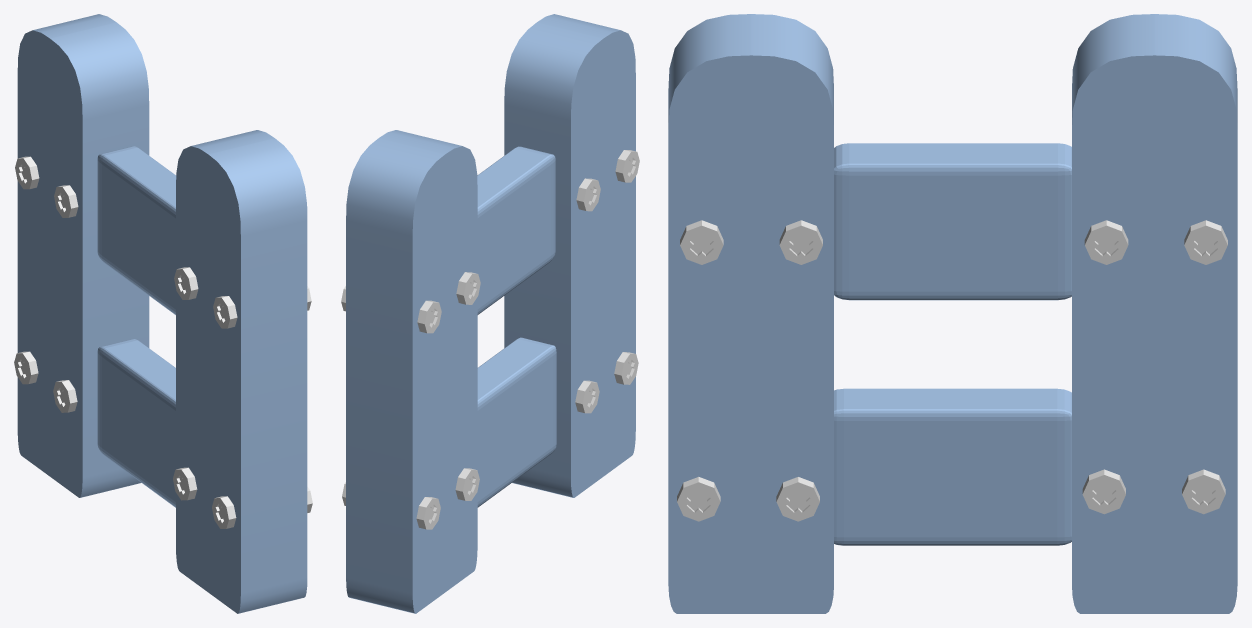
Rendered from vallahorizontal3.fbx.
3 renders of one model, left to right at view 1: azimuth 30°, elevation 25°; view 2: azimuth 150°, elevation 25°; view 3: azimuth 270°, elevation 25°, orthographic. The views are drawn at different scales.
Visible parts, largest first — view 1: Cube.005, Cube.012, Cube.004, Cube.003, Cylinder.045, Cylinder.025, Cylinder.047, Cylinder.044, Cylinder.024, Cylinder.026, Cylinder.027, Cylinder.046; view 2: Cube.012, Cube.005, Cube.003, Cube.004, Cylinder.047, Cylinder.025, Cylinder.027, Cylinder.046, Cylinder.024, Cylinder.044, Cylinder.026, Cylinder.045; view 3: Cube.012, Cube.005, Cube.003, Cube.004, Cylinder.040, Cylinder.043, Cylinder.016, Cylinder.018, Cylinder.041, Cylinder.017, Cylinder.019, Cylinder.042.
Part boxes in pixels (bbox=[...]): Cube.005: bbox=[176, 130, 307, 613]; Cube.012: bbox=[17, 14, 149, 497]; Cube.004: bbox=[97, 146, 176, 314]; Cube.003: bbox=[97, 339, 175, 507]; Cylinder.045: bbox=[14, 351, 38, 384]; Cylinder.025: bbox=[173, 467, 197, 500]; Cylinder.047: bbox=[15, 156, 39, 189]; Cylinder.044: bbox=[53, 380, 77, 412]; Cylinder.024: bbox=[212, 496, 236, 528]; Cylinder.026: bbox=[213, 296, 237, 328]; Cylinder.027: bbox=[174, 267, 198, 299]; Cylinder.046: bbox=[54, 185, 78, 217]; Cube.012: bbox=[346, 130, 477, 613]; Cube.005: bbox=[504, 14, 635, 497]; Cube.003: bbox=[477, 337, 556, 507]; Cube.004: bbox=[477, 146, 555, 314]; Cylinder.047: bbox=[417, 300, 441, 333]; Cylinder.025: bbox=[575, 380, 599, 413]; Cylinder.027: bbox=[576, 178, 600, 211]; Cylinder.046: bbox=[456, 272, 480, 304]; Cylinder.024: bbox=[614, 352, 638, 384]; Cylinder.044: bbox=[455, 468, 479, 500]; Cylinder.026: bbox=[615, 150, 639, 182]; Cylinder.045: bbox=[416, 497, 440, 529]; Cube.012: bbox=[1072, 14, 1237, 613]; Cube.005: bbox=[668, 14, 833, 613]; Cube.003: bbox=[834, 388, 1071, 545]; Cube.004: bbox=[834, 143, 1071, 300]; Cylinder.040: bbox=[1084, 220, 1128, 264]; Cylinder.043: bbox=[1182, 469, 1225, 514]; Cylinder.016: bbox=[680, 220, 723, 264]; Cylinder.018: bbox=[677, 477, 720, 521]; Cylinder.041: bbox=[1184, 220, 1227, 264]; Cylinder.017: bbox=[779, 220, 822, 264]; Cylinder.019: bbox=[776, 477, 819, 521]; Cylinder.042: bbox=[1082, 469, 1125, 514].
Size of the model in its own units: 39.69 by 201 by 185.
